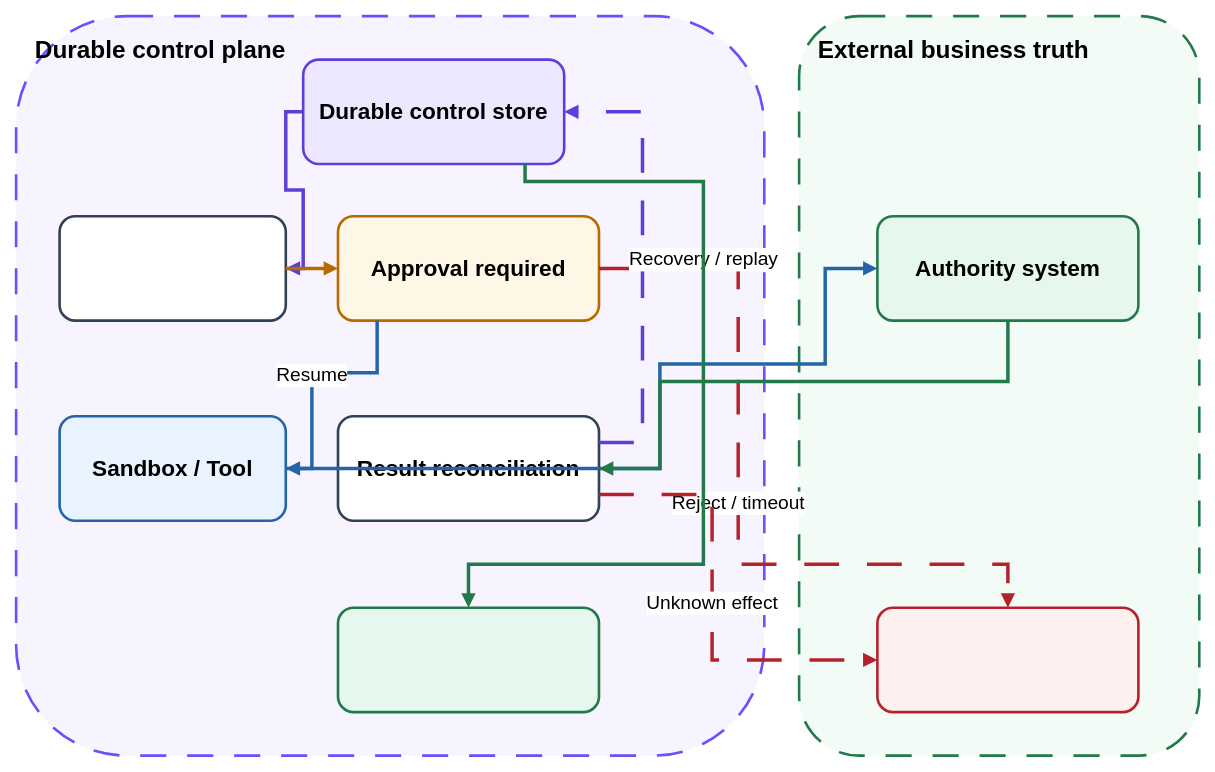
The diagram is 1215 pixels wide and 772 high, and some of its shapes have lost their labels. The centre of each missing label's shape, as x and y in pixels:
"Checkpoint" belongs at (172,267).
"Completed" belongs at (468,659).
"Manual terminal" belongs at (1007,659).
